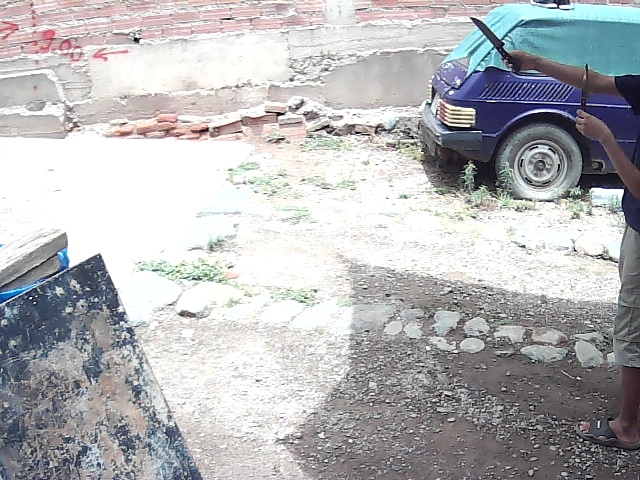cuchillo: (466, 12, 523, 73)
